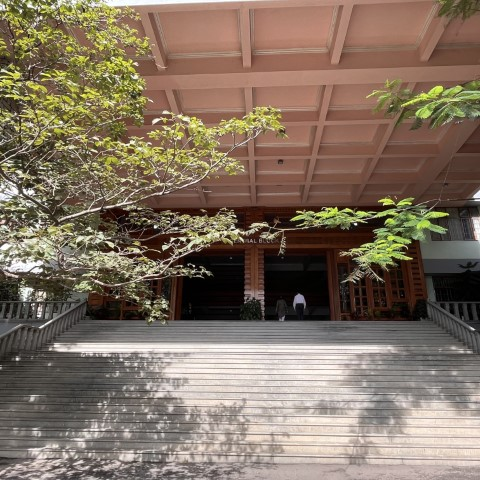Central Block: (60, 4, 480, 480)
